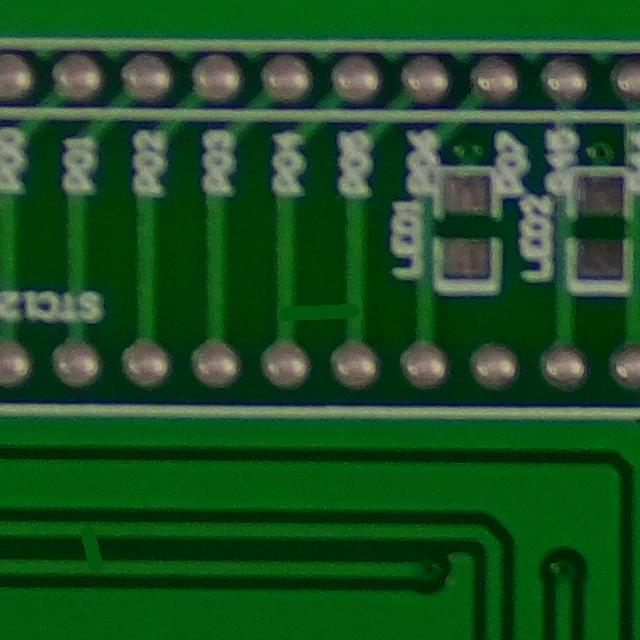short: (259, 269, 382, 372)
